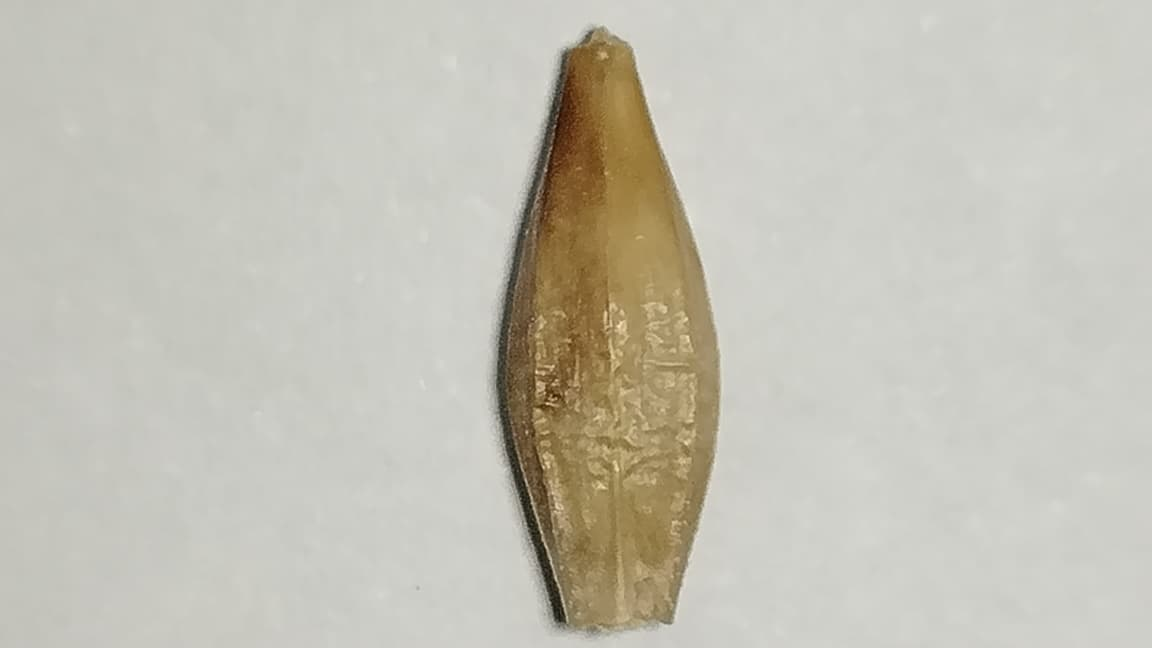healthy-70-60: (496, 46, 719, 632)
